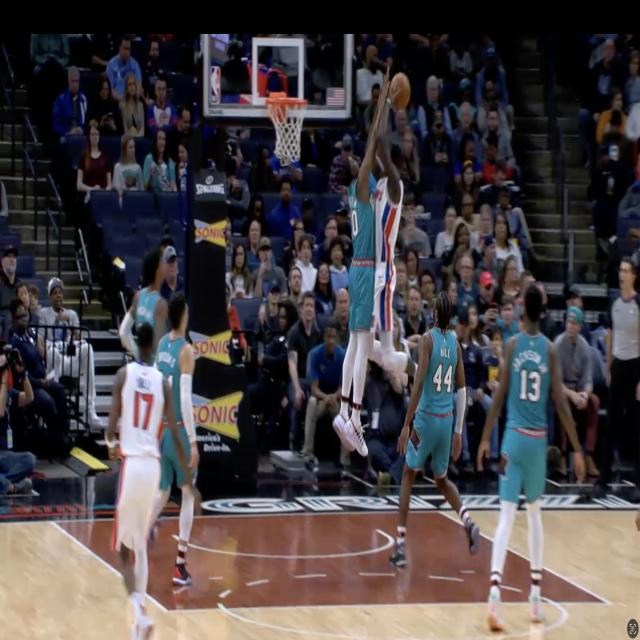foul: (336, 54, 406, 458)
no foul: (110, 296, 189, 622), (391, 300, 472, 580), (158, 296, 192, 597)
